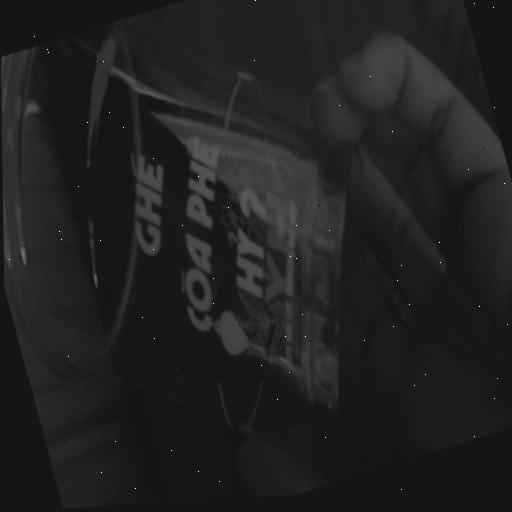ly_giay: (1, 15, 344, 463)
